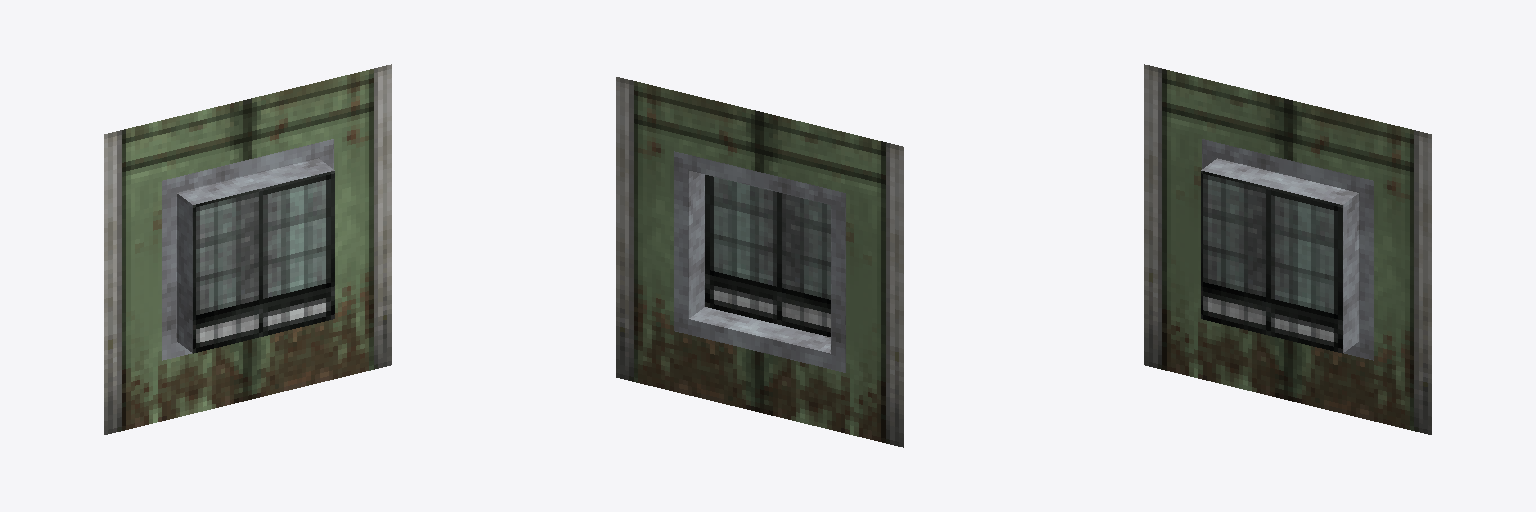
3 renders of one model, left to right at view 1: azimuth 30°, elevation 25°; view 2: azimuth 150°, elevation 25°; view 3: azimuth 330°, elevation 25°, orthographic.
Parts seen in each view (by area): view 1: wallB_flatWindow; view 2: wallB_flatWindow; view 3: wallB_flatWindow.
Boxes of the visible parts, x1,y1,x2,y2 form: wallB_flatWindow: [104, 64, 391, 434]; wallB_flatWindow: [616, 77, 903, 447]; wallB_flatWindow: [1144, 64, 1431, 434].
Bounding box in the file's own units: 1 × 1 × 0.1.
3 materials, 3 textured.